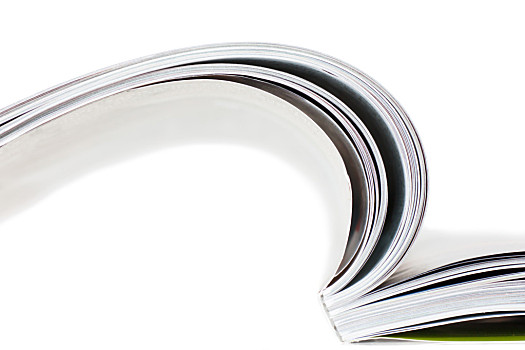book: (2, 42, 524, 343)
